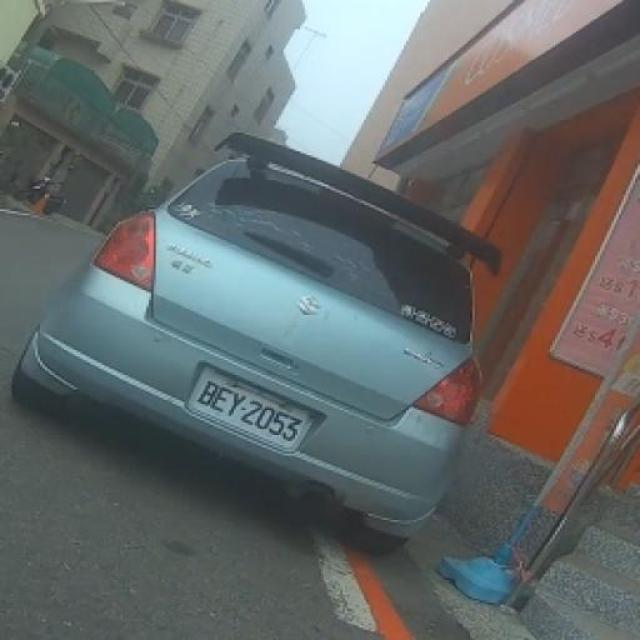illegalparking: (2, 52, 565, 605)
